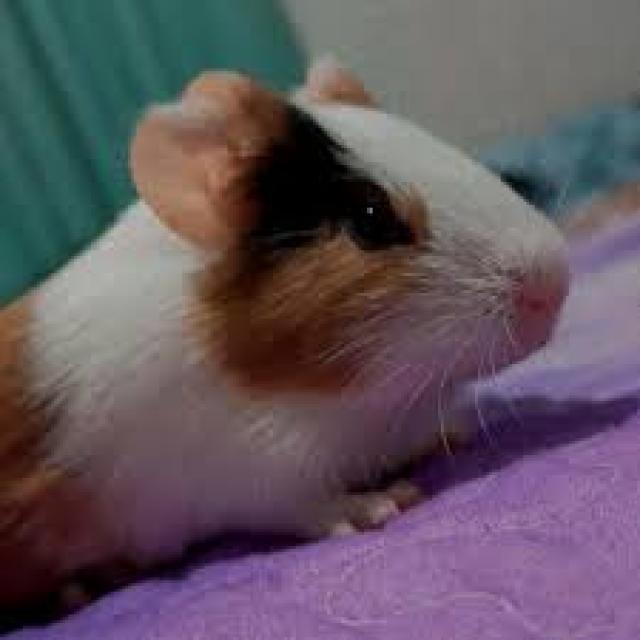guinea pig: (0, 66, 574, 617)
